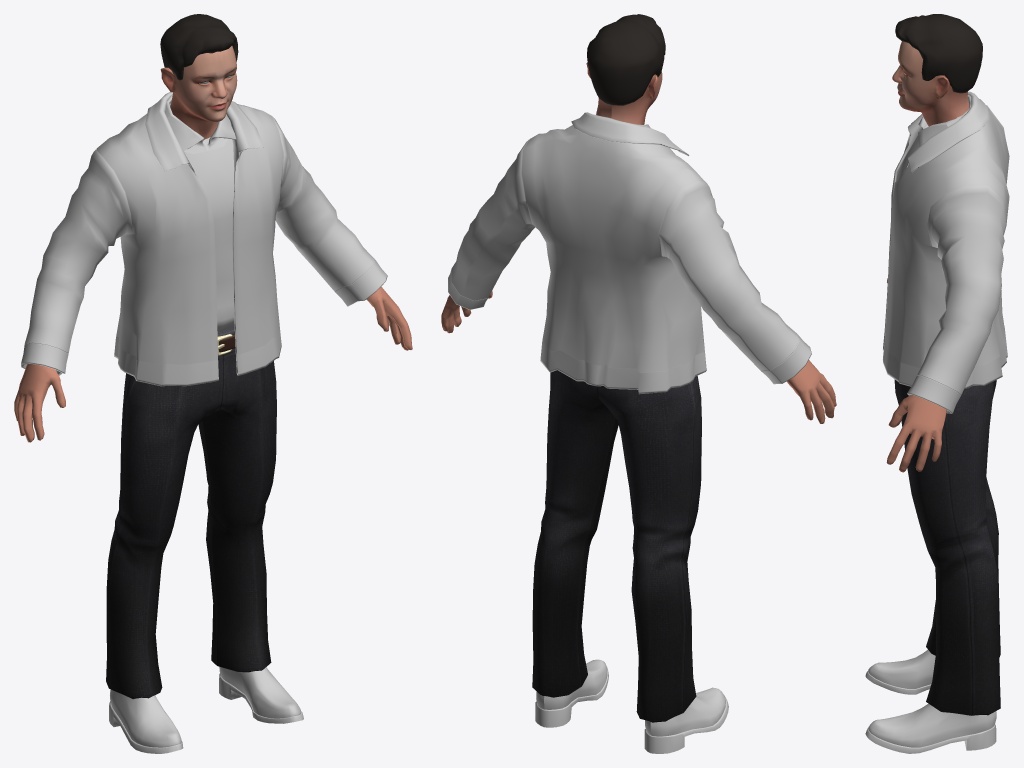
File: ceo_gsb.fbx
3 renders of one model, left to right at view 1: azimuth 30°, elevation 25°; view 2: azimuth 150°, elevation 25°; view 3: azimuth 270°, elevation 25°, orthographic.
Parts seen in each view (by area): view 1: jacket_geo, slack_geo, shoe_geo, poloshirt_geo, Head_geo, body_geo, hair_geo; view 2: jacket_geo, slack_geo, hair_geo, shoe_geo, body_geo, Head_geo; view 3: jacket_geo, slack_geo, shoe_geo, hair_geo, Head_geo, body_geo, poloshirt_geo.
Boxes of the visible parts, x1=… form: jacket_geo: x1=21, y1=92, x2=387, y2=386; slack_geo: x1=106, y1=326, x2=276, y2=699; shoe_geo: x1=109, y1=666, x2=303, y2=753; poloshirt_geo: x1=165, y1=94, x2=236, y2=331; Head_geo: x1=160, y1=46, x2=237, y2=139; body_geo: x1=14, y1=286, x2=412, y2=442; hair_geo: x1=160, y1=14, x2=238, y2=80; jacket_geo: x1=448, y1=112, x2=811, y2=394; slack_geo: x1=532, y1=370, x2=701, y2=722; hair_geo: x1=587, y1=14, x2=665, y2=105; shoe_geo: x1=535, y1=659, x2=728, y2=753; body_geo: x1=441, y1=291, x2=836, y2=423; Head_geo: x1=586, y1=62, x2=662, y2=124; jacket_geo: x1=882, y1=91, x2=1009, y2=413; slack_geo: x1=894, y1=379, x2=1000, y2=715; shoe_geo: x1=865, y1=650, x2=996, y2=753; hair_geo: x1=895, y1=14, x2=982, y2=93; Head_geo: x1=892, y1=41, x2=969, y2=126; body_geo: x1=886, y1=278, x2=946, y2=472; poloshirt_geo: x1=896, y1=95, x2=971, y2=180.
Bounding box in the file's own units: 106 × 185 × 34.58.
